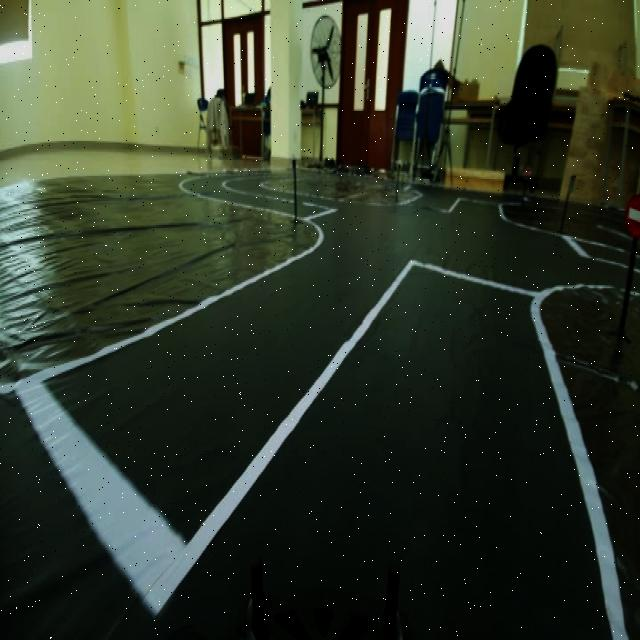no_entry: (619, 186, 640, 243)
